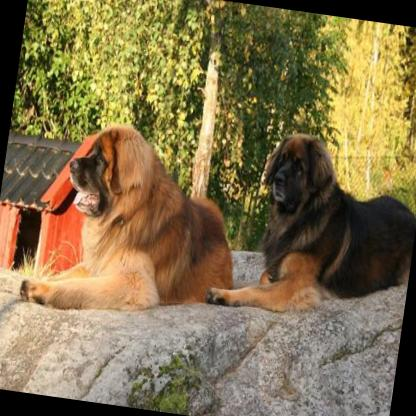Leonberg: (18, 117, 252, 328), (202, 118, 416, 330)
